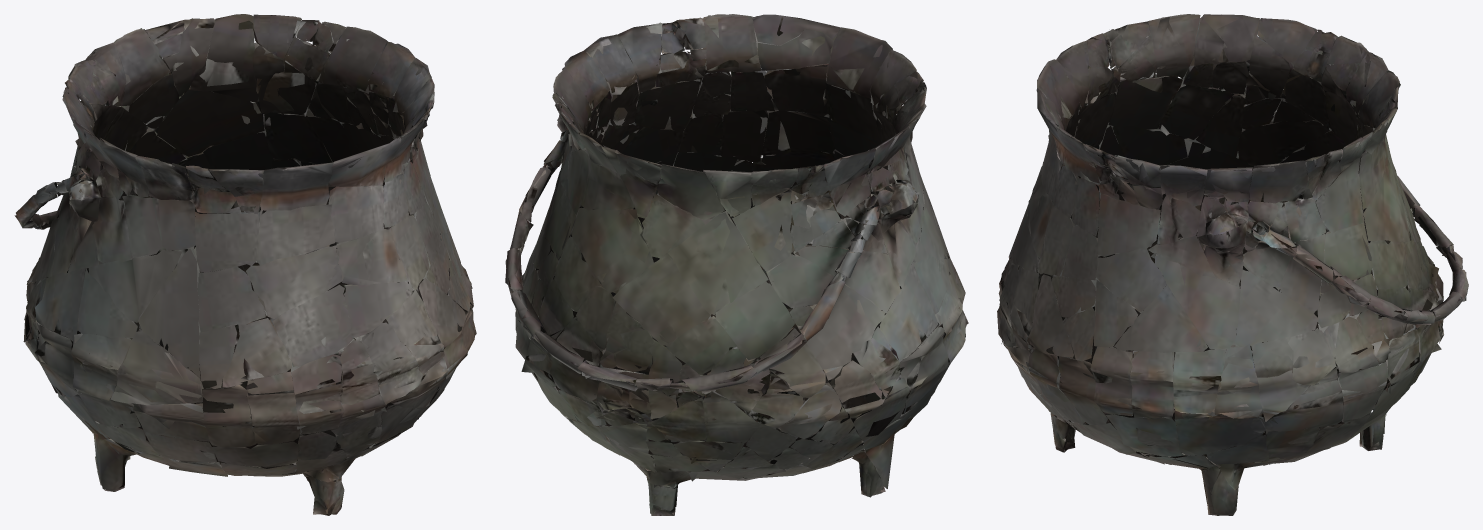
The model's file is a227_bakir_kazan.glb.
3 views of the same model, side by side, from view 1: azimuth 30°, elevation 25°; view 2: azimuth 150°, elevation 25°; view 3: azimuth 270°, elevation 25° (orthographic). The views are drawn at different scales.
Visible parts, largest first — view 1: Mesh_0; view 2: Mesh_0; view 3: Mesh_0.
Boxes of the visible parts, x1=… form: Mesh_0: x1=14, y1=14, x2=476, y2=515; Mesh_0: x1=505, y1=14, x2=968, y2=515; Mesh_0: x1=997, y1=14, x2=1468, y2=515.
Size of the model in its own units: 1.71 by 1.54 by 1.83.
1 material, 1 textured.
